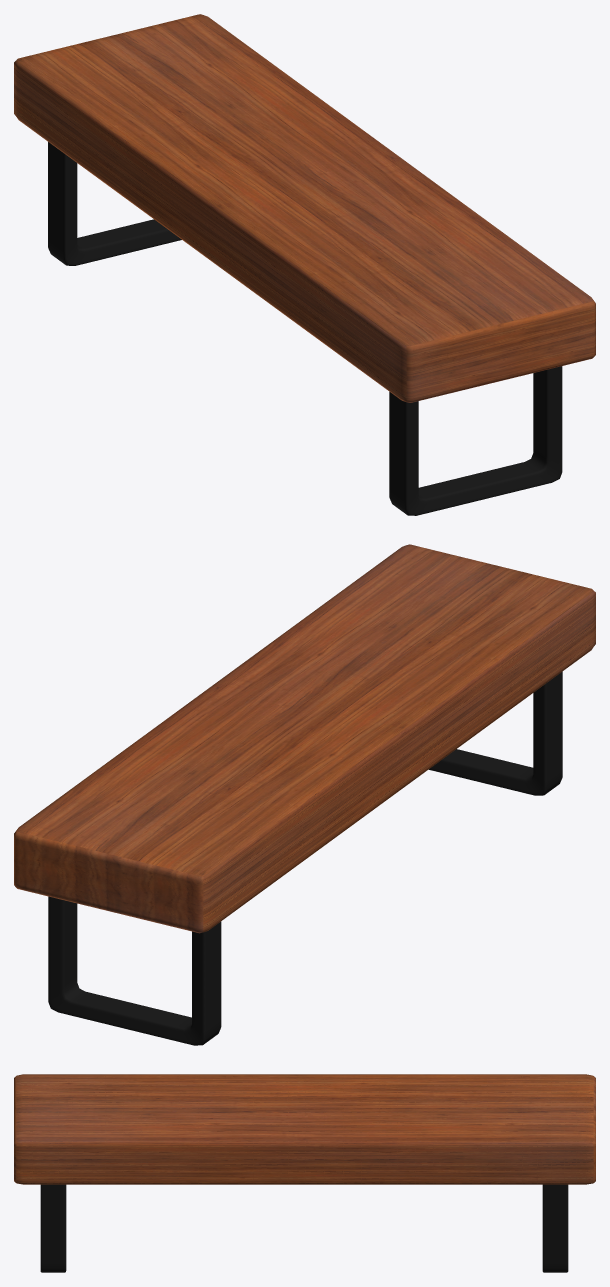
File: banca.fbx
The picture shows the model from 3 angles, top to bottom: view 1: azimuth 30°, elevation 25°; view 2: azimuth 150°, elevation 25°; view 3: azimuth 270°, elevation 25°; orthographic projection. The views are drawn at different scales.
Visible parts, largest first — view 1: pCube2; view 2: pCube2; view 3: pCube2.
Boxes of the visible parts, x1,y1,x2,y2 form: pCube2: [14, 14, 595, 515]; pCube2: [14, 544, 595, 1045]; pCube2: [14, 1074, 595, 1272].
Size of the model in its own units: 3.4 by 3.2 by 12.13.
Materials: 1 (1 with a texture image).
